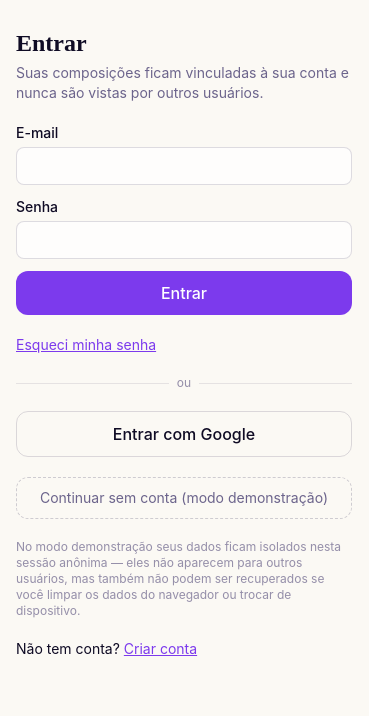
Test: Login — Google popup sign-in › shows a friendly message for an unauthorized domain
Step 1. Click the button "Entrar com Google" → coordinates (184, 434), box [16,411,352,457]
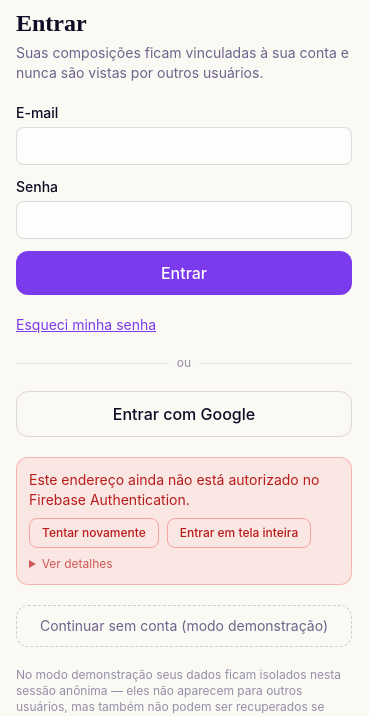
Check: the text "ainda não está autorizado no Firebase Authentication" is shown, box [29,471,319,508]
